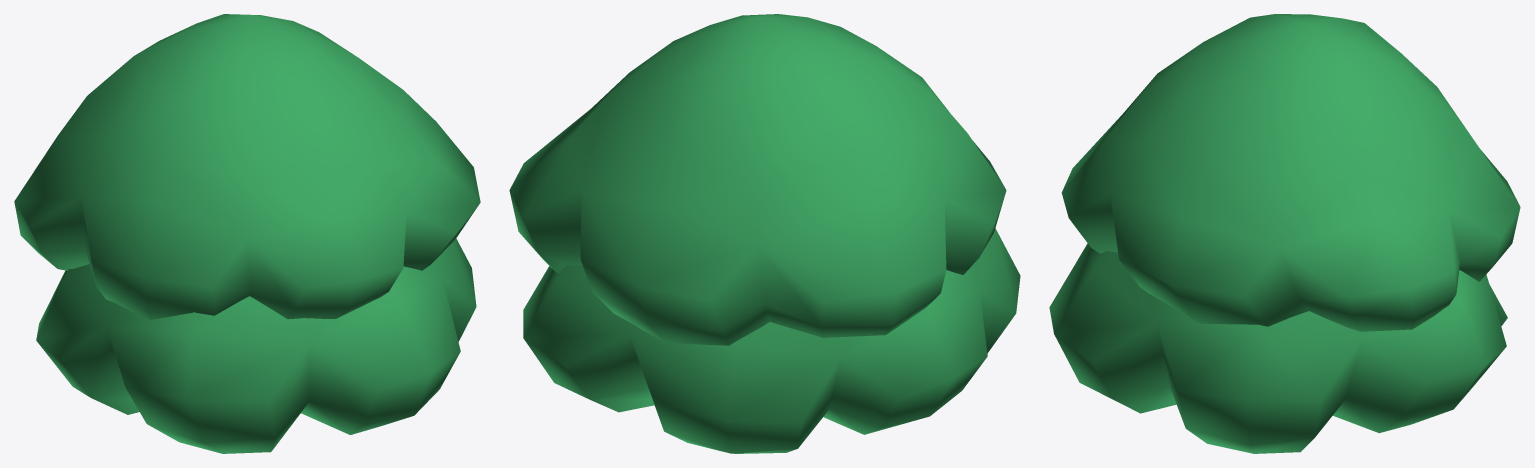
The model's file is Bush_C_03_LOD2.gltf.
The picture shows the model from 3 angles, left to right: view 1: azimuth 30°, elevation 25°; view 2: azimuth 150°, elevation 25°; view 3: azimuth 270°, elevation 25°; orthographic projection. The views are drawn at different scales.
Visible parts, largest first — view 1: Bush_C_03_LOD2_Cylinder.613; view 2: Bush_C_03_LOD2_Cylinder.613; view 3: Bush_C_03_LOD2_Cylinder.613.
Boxes of the visible parts, x1,y1,x2,y2 form: Bush_C_03_LOD2_Cylinder.613: (14, 14, 480, 453); Bush_C_03_LOD2_Cylinder.613: (509, 14, 1020, 453); Bush_C_03_LOD2_Cylinder.613: (1049, 14, 1520, 453).
Size of the model in its own units: 4.2 by 3.65 by 4.18.
Materials: 1 (1 with a texture image).
